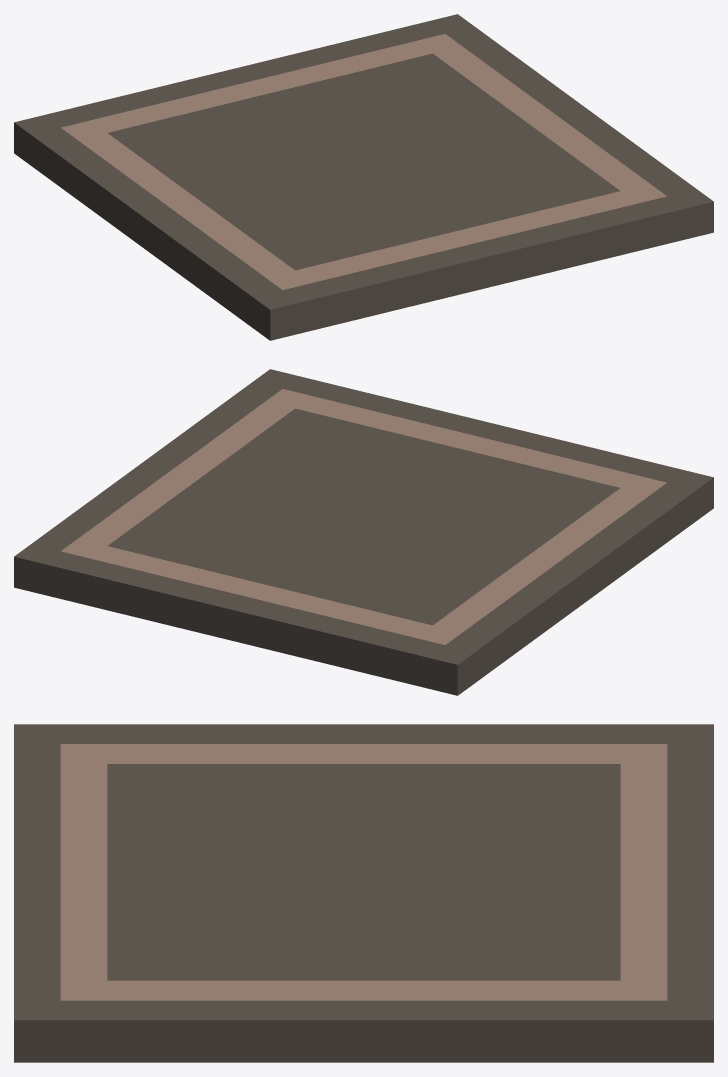
File: dungeon_a_a_ground_b_a.obj
The picture shows the model from 3 angles, top to bottom: view 1: azimuth 30°, elevation 25°; view 2: azimuth 150°, elevation 25°; view 3: azimuth 270°, elevation 25°; orthographic projection. The views are drawn at different scales.
Bounding box in the file's own units: 1.5 × 0.1 × 1.5.
1 material, 1 textured.
